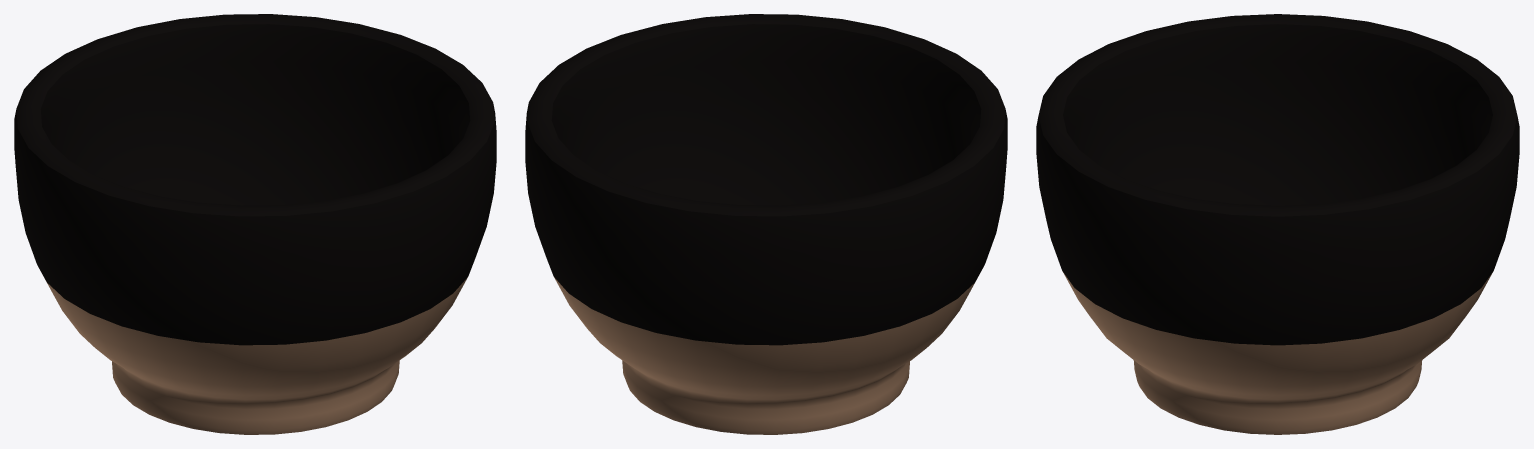
3 renders of one model, left to right at view 1: azimuth 30°, elevation 25°; view 2: azimuth 150°, elevation 25°; view 3: azimuth 270°, elevation 25°, orthographic.
Parts seen in each view (by area): view 1: ST-茶杯; view 2: ST-茶杯; view 3: ST-茶杯.
Boxes of the visible parts, x1,y1,x2,y2 form: ST-茶杯: (14, 14, 496, 434); ST-茶杯: (525, 14, 1007, 434); ST-茶杯: (1036, 14, 1519, 434).
Size of the model in its own units: 0.0805 by 0.0805 by 0.0489.
